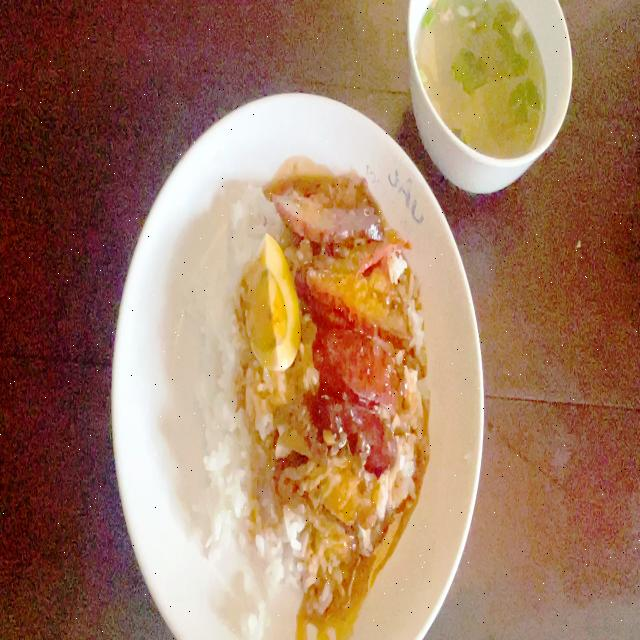boiled_egg: (256, 238, 304, 361)
chainese_sausage: (317, 340, 399, 446)
crispy_pork: (291, 464, 380, 550), (270, 401, 321, 486)
red_pork: (294, 181, 387, 275), (320, 240, 416, 331)
red_pork_and_crispy_pork: (195, 188, 425, 580)
rice: (203, 242, 249, 536), (232, 370, 279, 638)
